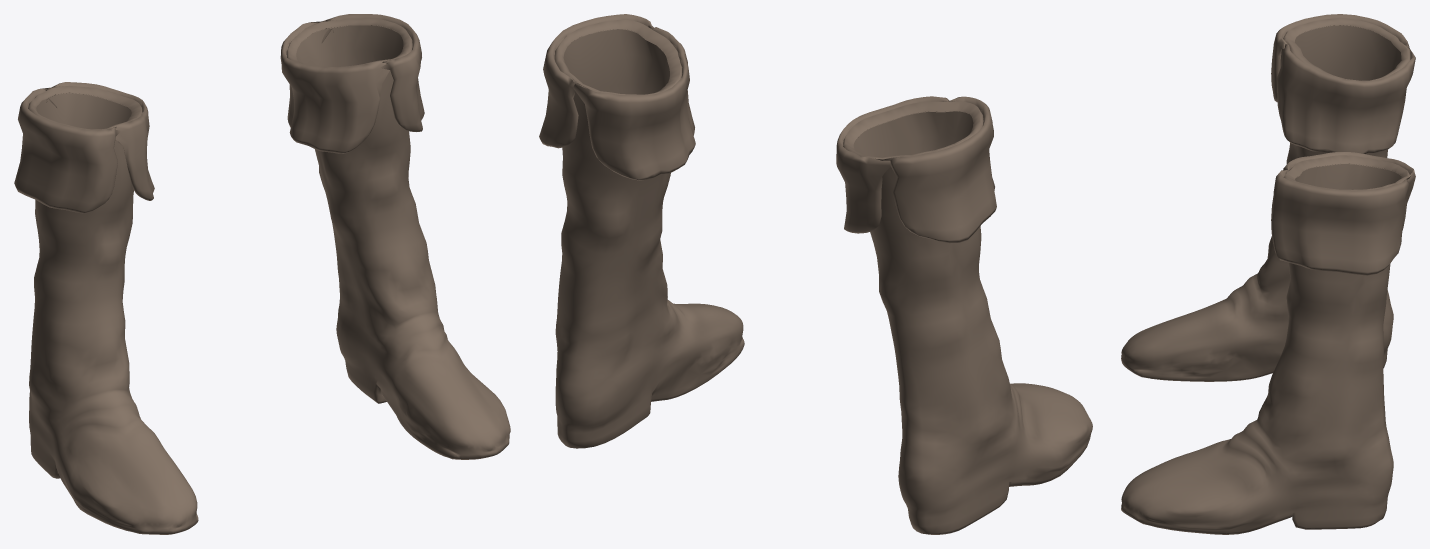
File: travel_shoes_tucked.glb
The picture shows the model from 3 angles, left to right: view 1: azimuth 30°, elevation 25°; view 2: azimuth 150°, elevation 25°; view 3: azimuth 270°, elevation 25°; orthographic projection. The views are drawn at different scales.
Parts seen in each view (by area): view 1: TravelShoes; view 2: TravelShoes; view 3: TravelShoes.
Part boxes in pixels (left/top/right/bottom): TravelShoes: left=14, top=14, right=510, bottom=534; TravelShoes: left=539, top=14, right=1092, bottom=534; TravelShoes: left=1121, top=14, right=1415, bottom=534.
Size of the model in its own units: 0.4903 by 0.4054 by 0.3157.
